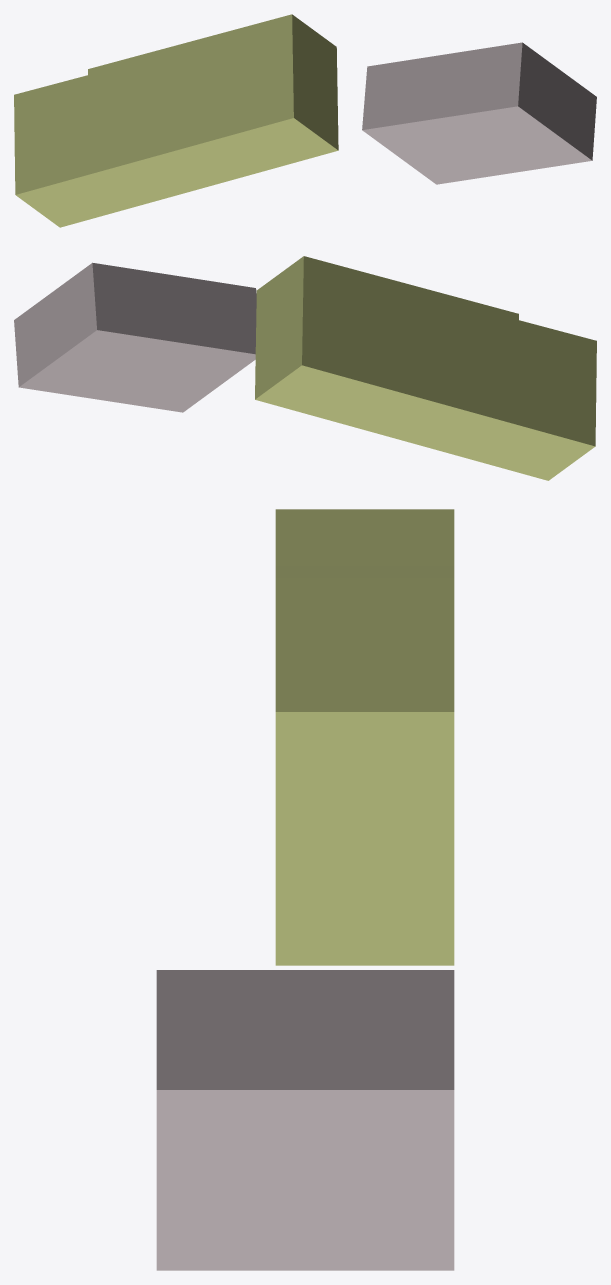
3 views of the same model, one above another, from view 1: azimuth 30°, elevation 25°; view 2: azimuth 150°, elevation 25°; view 3: azimuth 270°, elevation 25° (orthographic). The views are drawn at different scales.
Visible parts, largest first — view 1: 0_3_2_0_2_0_1_1; view 2: 0_3_2_0_2_0_1_1; view 3: 0_3_2_0_2_0_1_1.
Boxes of the visible parts, left/top/right/bottom form: 0_3_2_0_2_0_1_1: left=14, top=14, right=596, bottom=227; 0_3_2_0_2_0_1_1: left=14, top=256, right=596, bottom=480; 0_3_2_0_2_0_1_1: left=156, top=509, right=454, bottom=1270.
Size of the model in its own units: 59.15 by 16.36 by 15.
